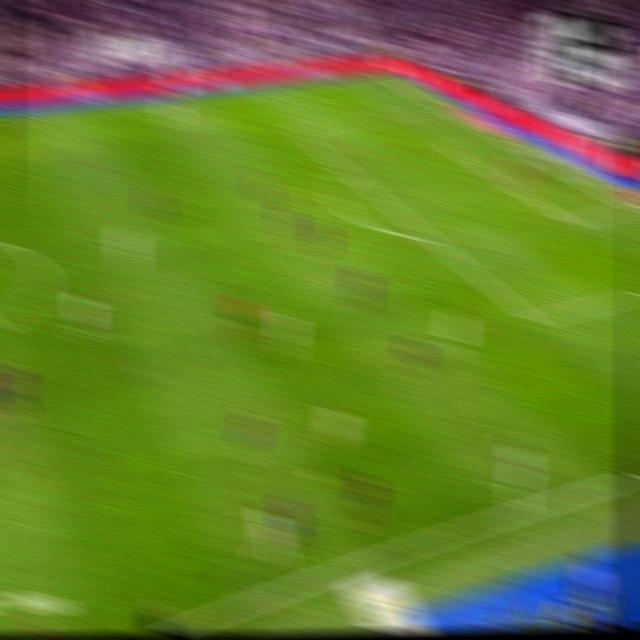bigarea_bottom_inner: (522, 306, 545, 333)
bigarea_top_inner: (287, 122, 307, 137)
bigarea_top_outter: (428, 98, 447, 114)
bottom_arc_area_intersection: (419, 227, 441, 248)
corner: (371, 69, 391, 80)
smallarea_top_inner: (442, 142, 459, 155)
top_arc_area_intersection: (339, 162, 360, 181)
